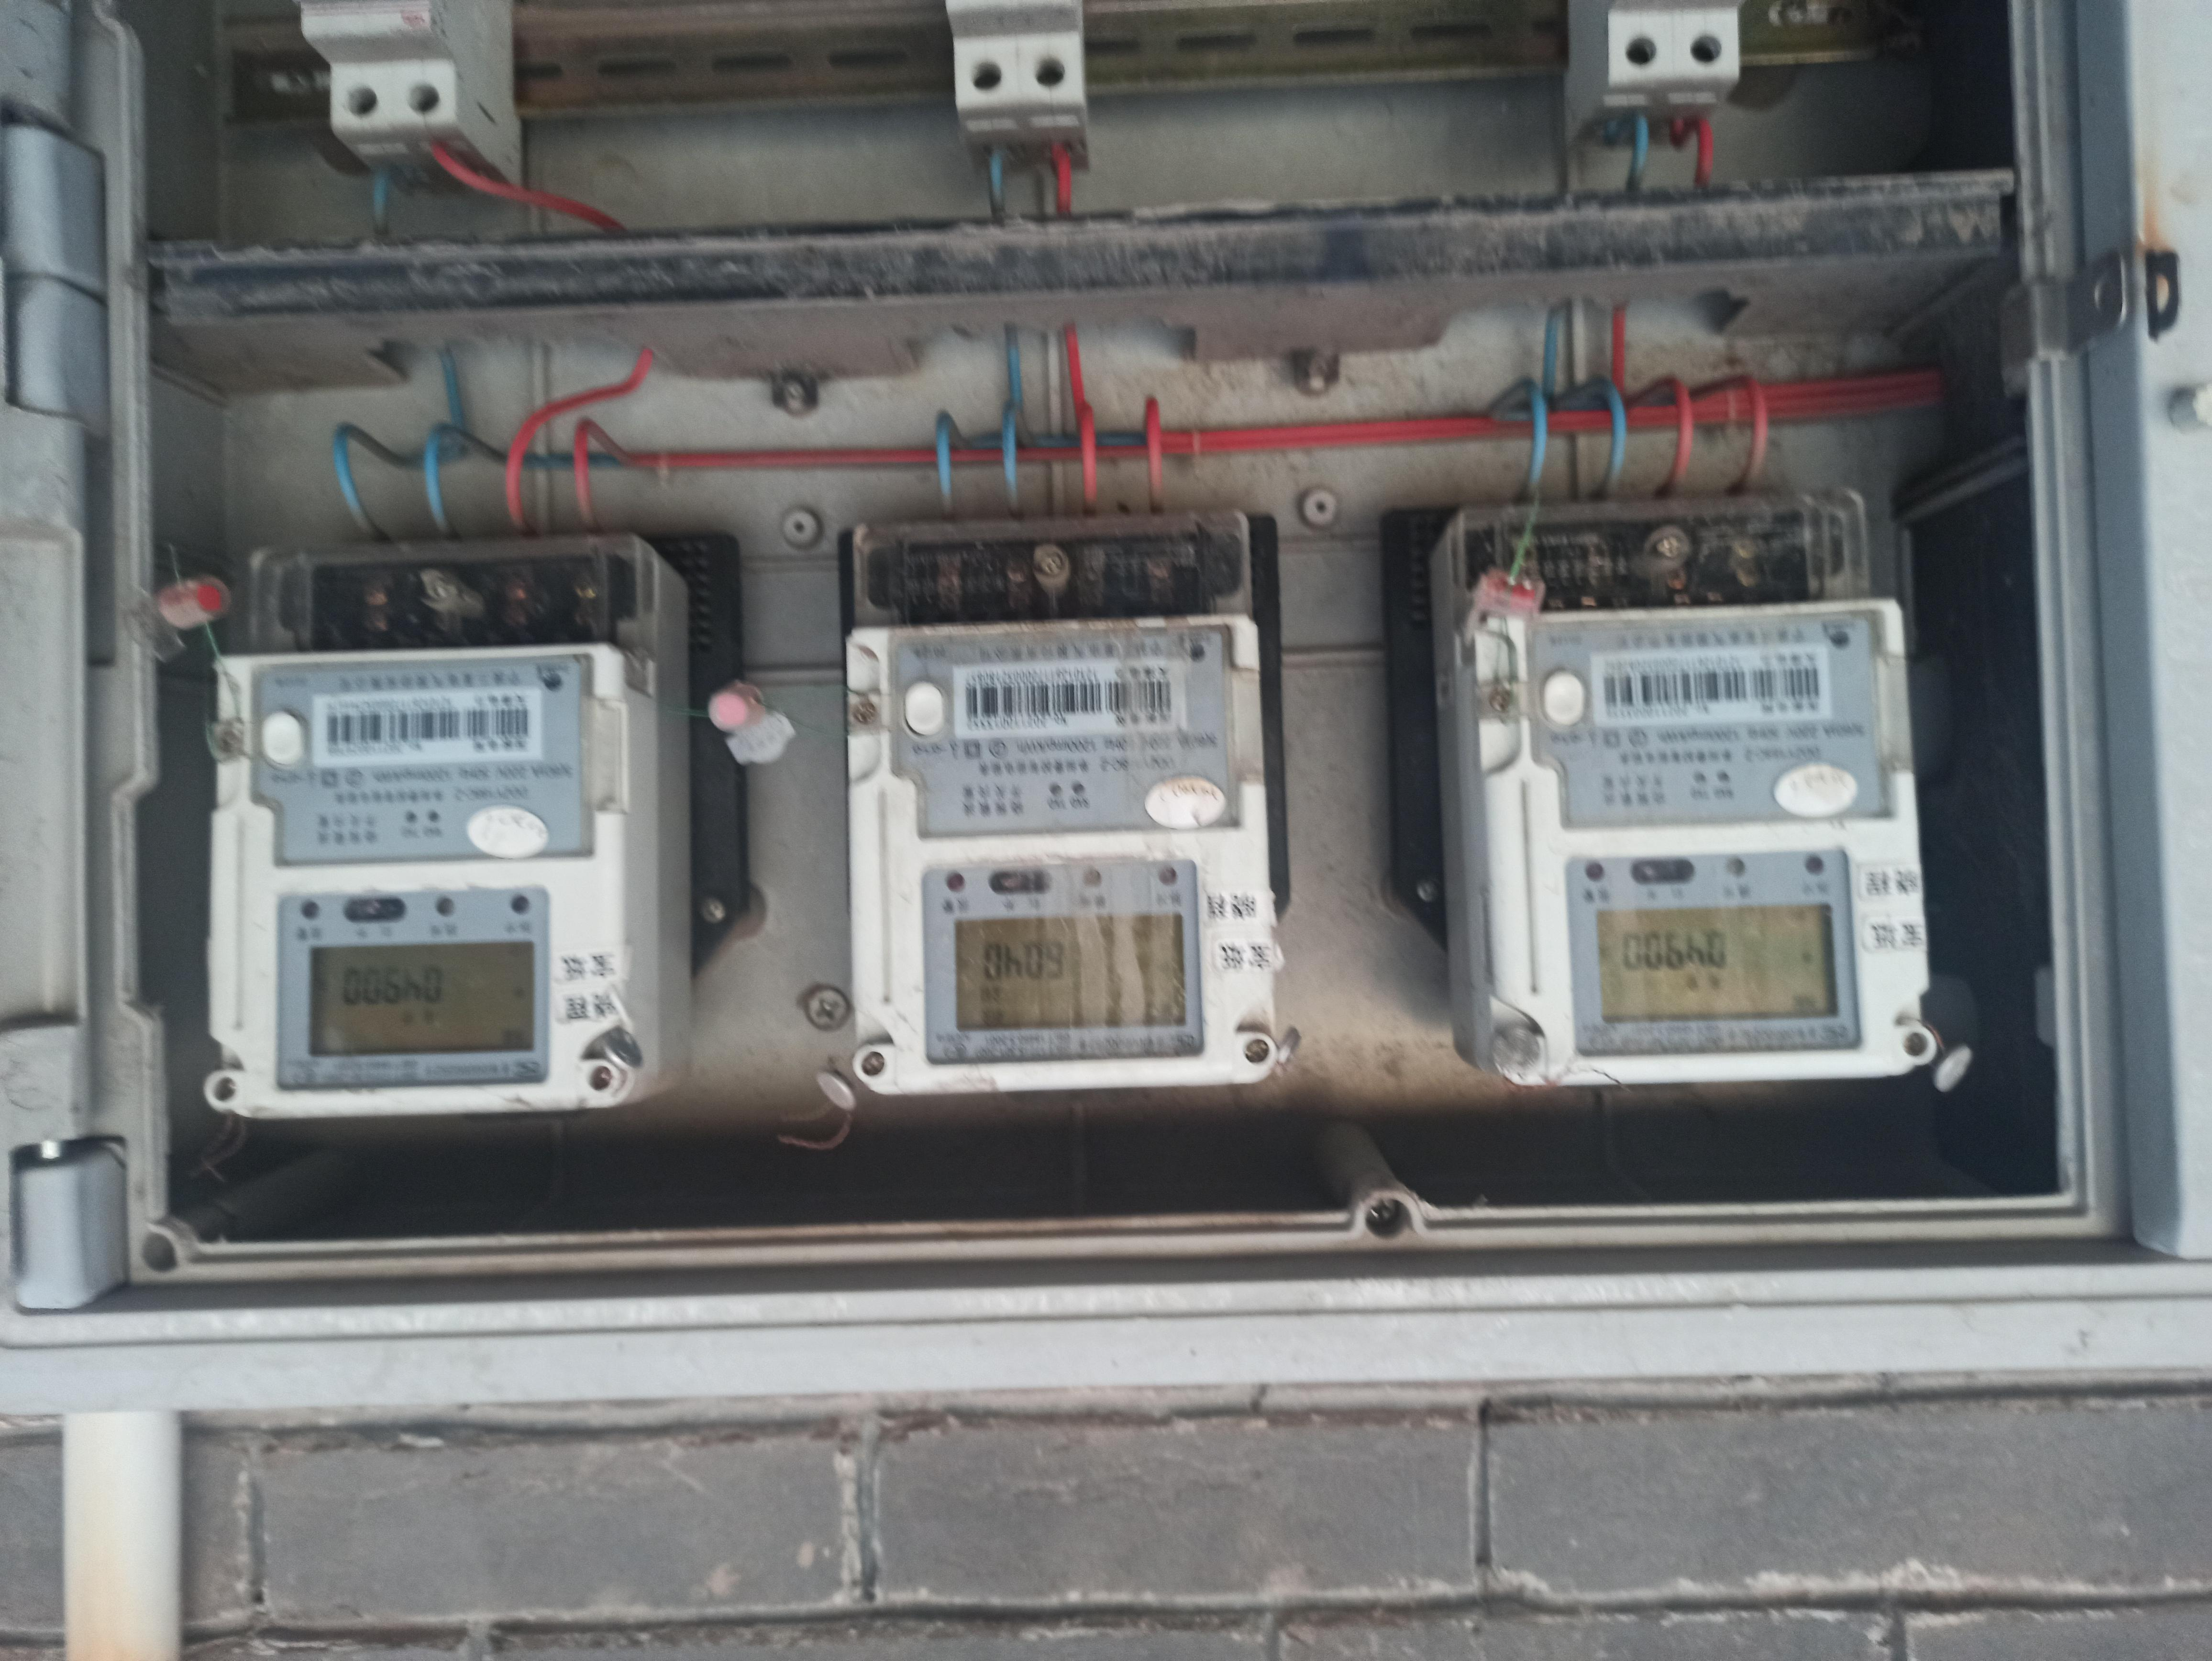digital: (1469, 602, 1935, 1082), (846, 616, 1272, 1083), (204, 654, 619, 1115)
